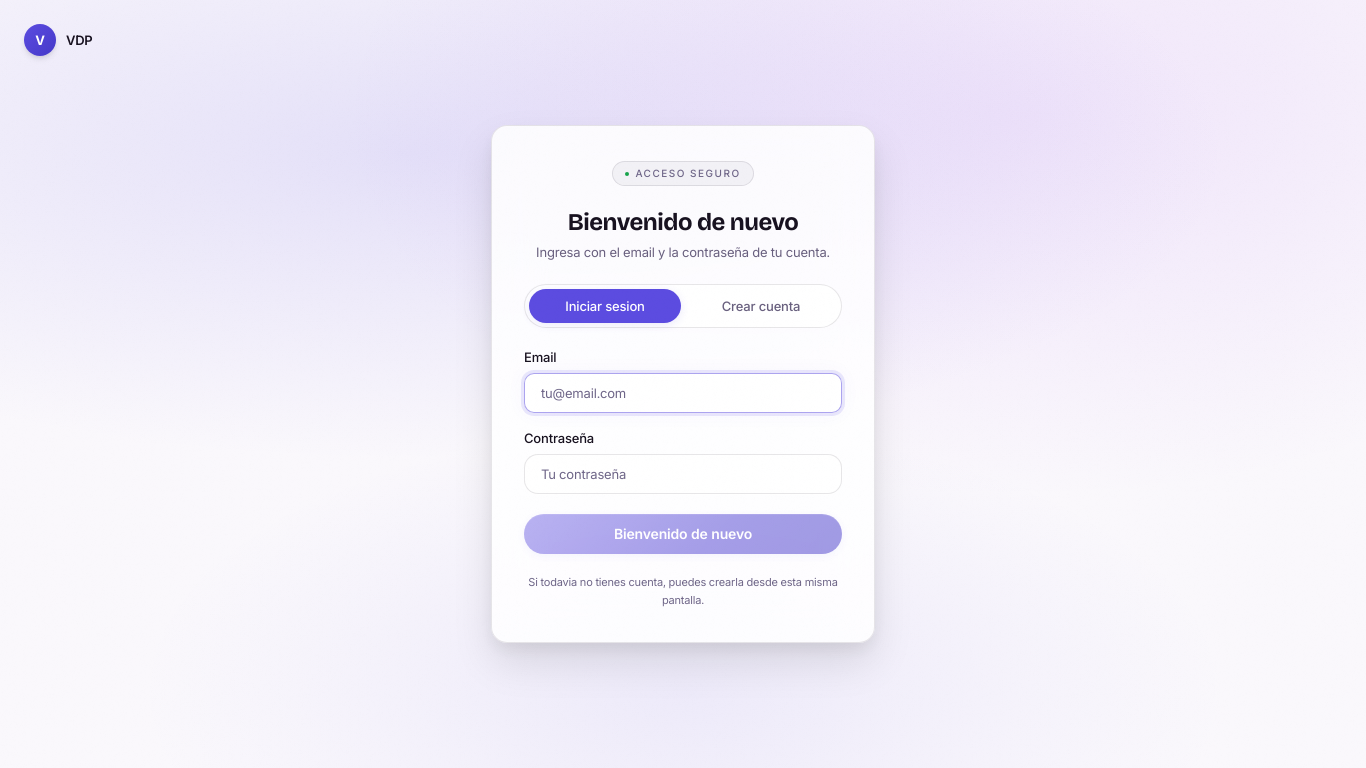
Test: LoginScreen › keeps registration disabled with a clear paused message when setup says registration is closed
Check: the heading "Bienvenido de nuevo" is shown, box [568,208,798,236]
Click the button "Crear cuenta": (761, 306) [685,288,837,323]
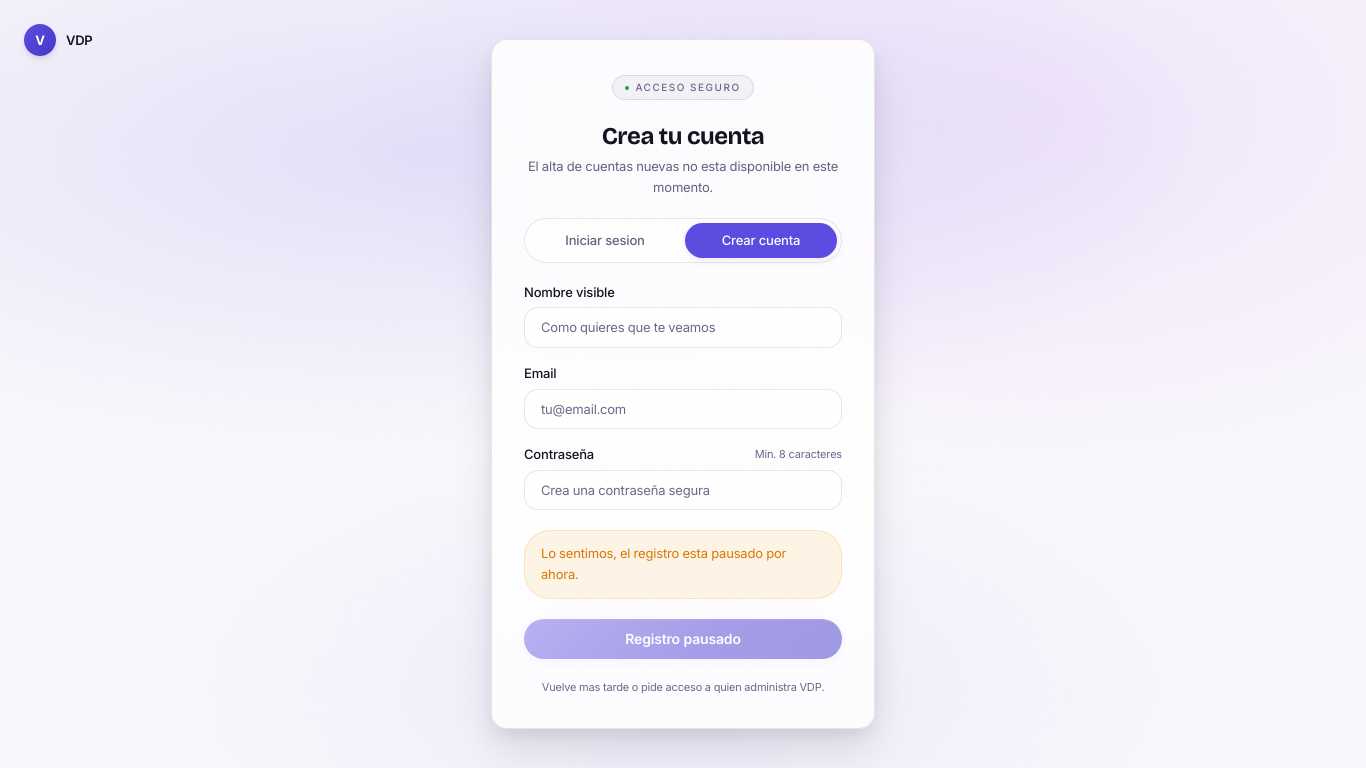
Check: the text "Lo sentimos, el registro esta pausado por ahora." is shown, box [524,530,842,599]
Check: the field labelled "Nombre visible" is disabled, box [524,308,842,348]
Check: the field labelled "Email" is disabled, box [524,389,842,429]
